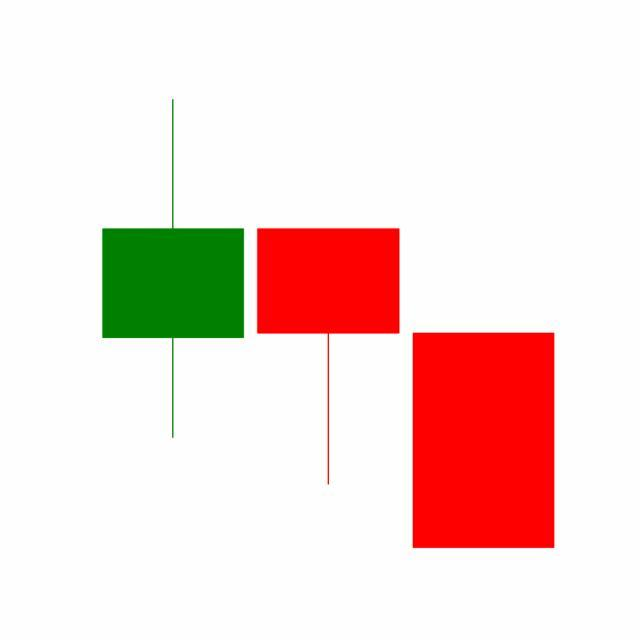Marubozu: (406, 331, 562, 551)
